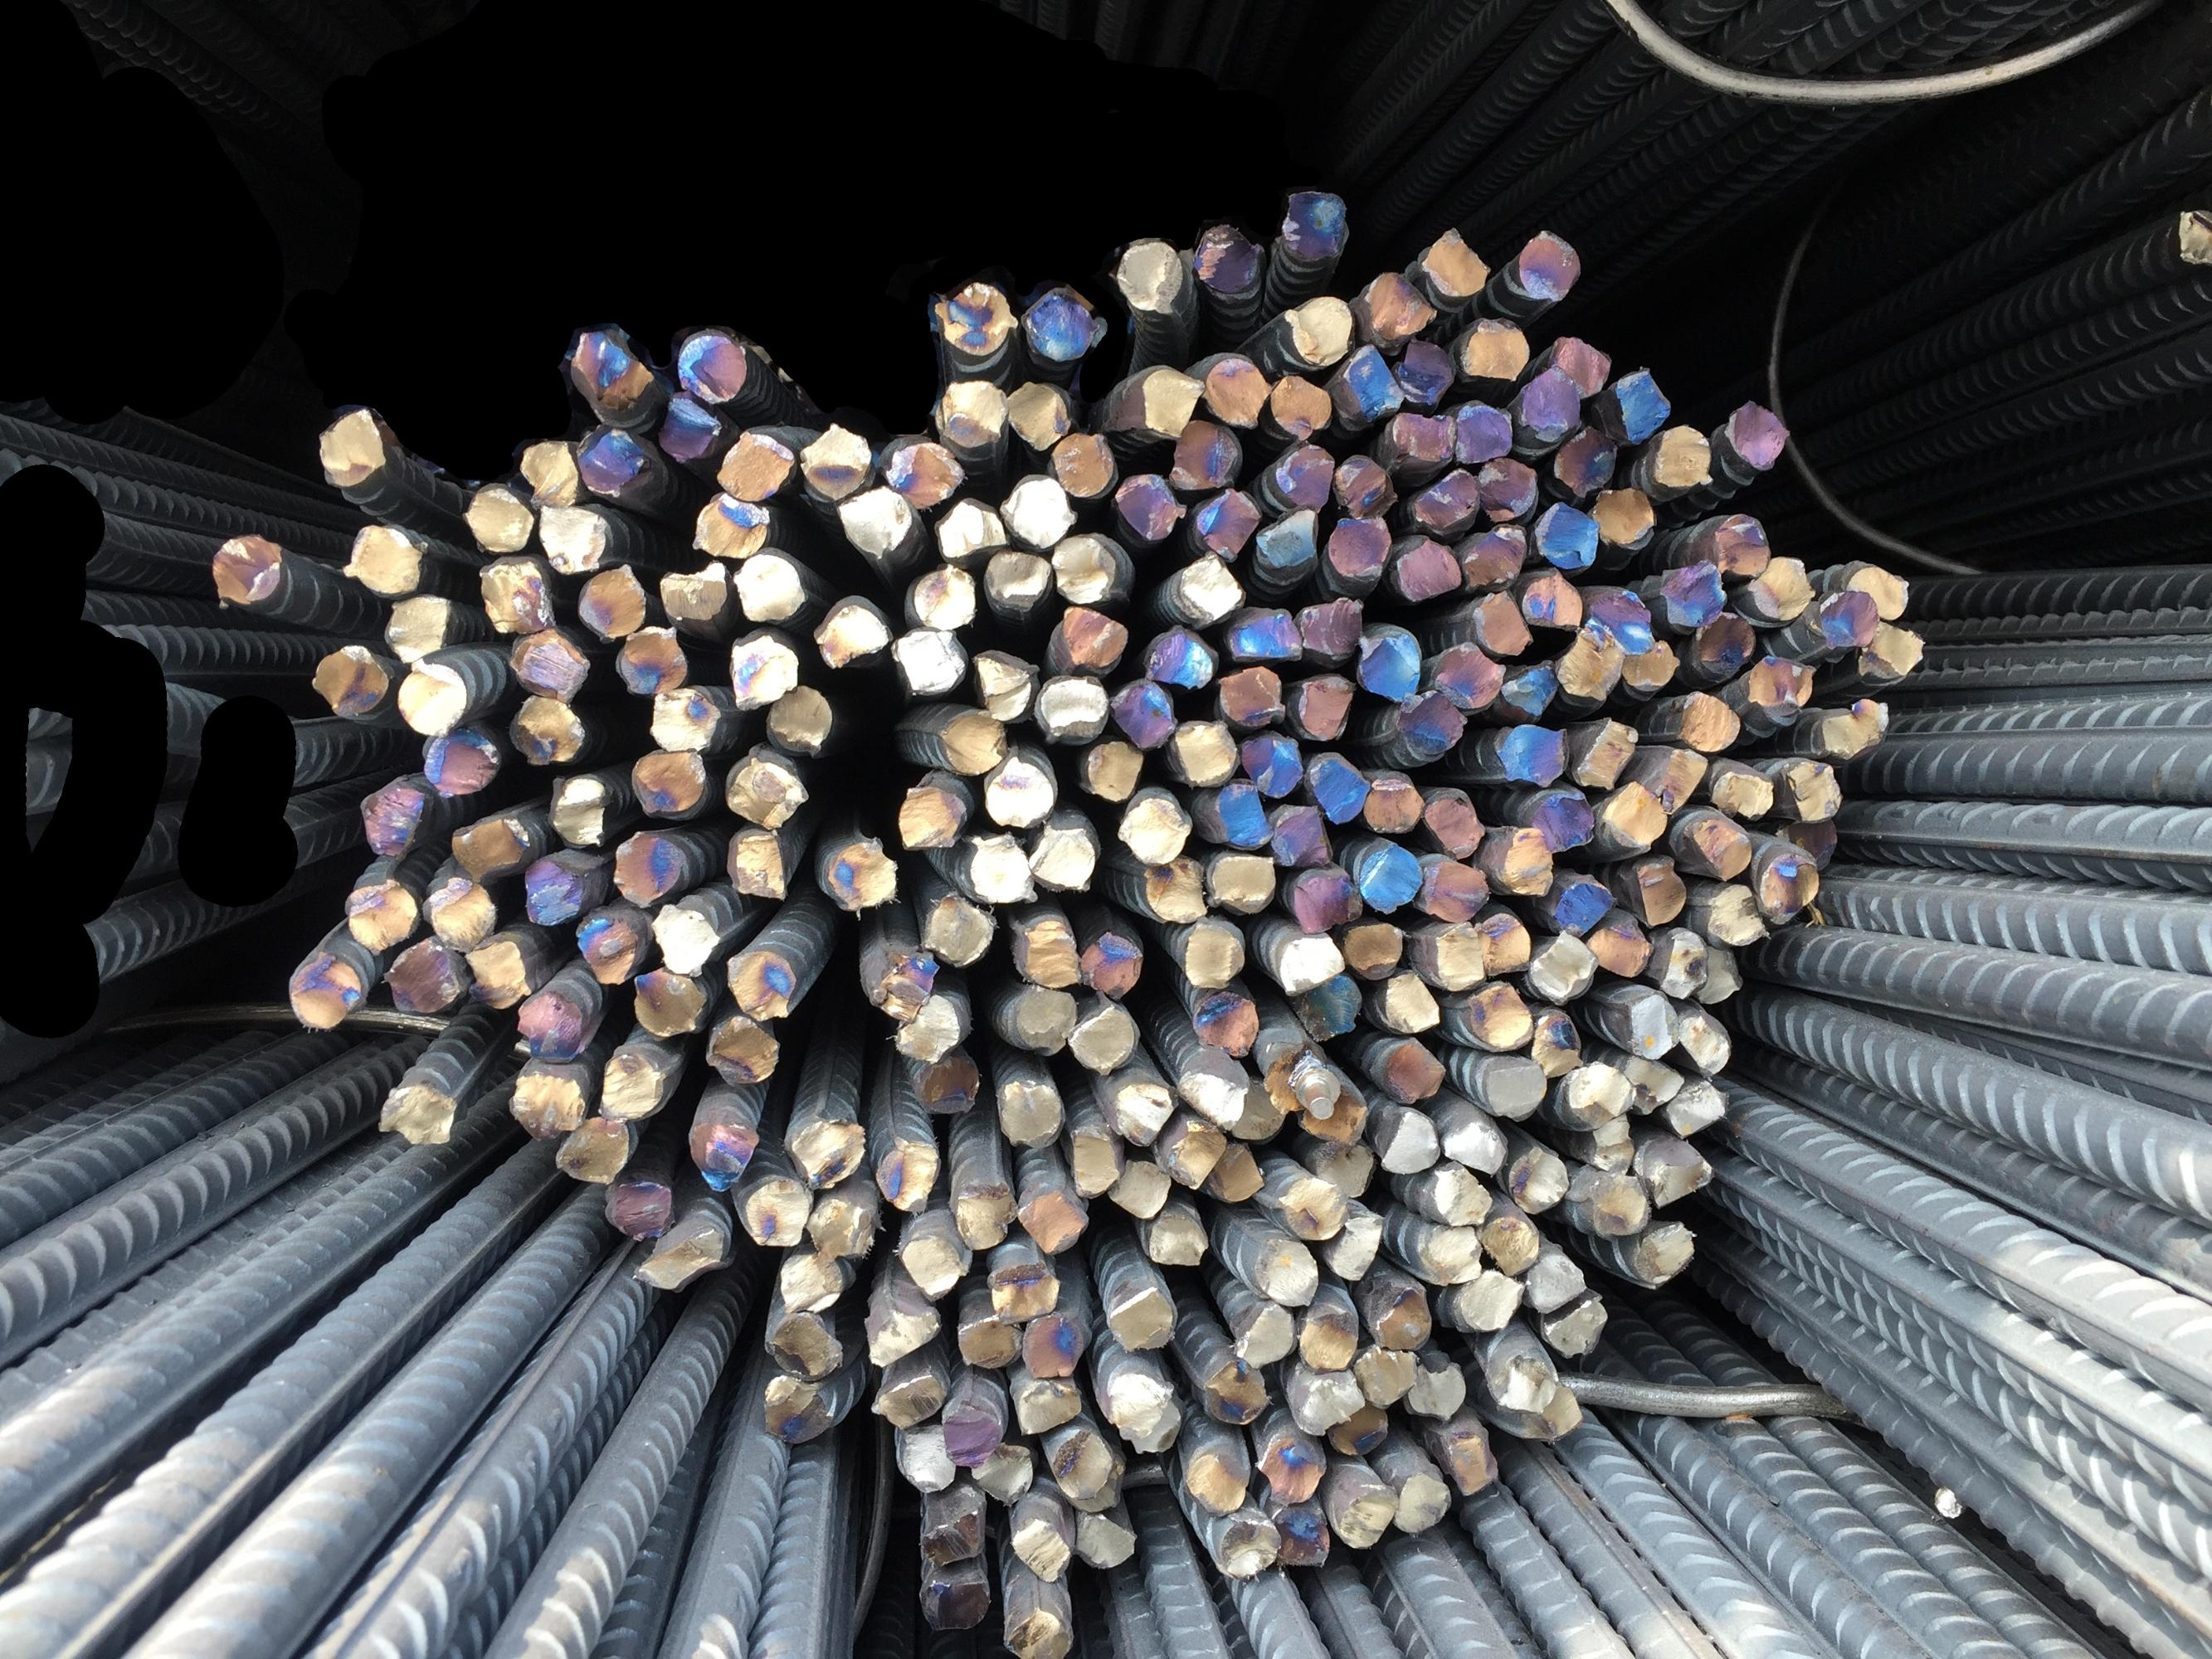bar: (567, 324, 657, 422), (723, 746, 811, 829), (933, 279, 1020, 359), (673, 324, 758, 404), (636, 1220, 727, 1295), (1018, 284, 1100, 364), (284, 946, 363, 1030), (760, 1305, 847, 1380), (1715, 396, 1790, 483), (383, 936, 464, 1016), (476, 554, 556, 634), (880, 429, 962, 507), (504, 1061, 587, 1138), (314, 404, 387, 491), (572, 422, 650, 502), (340, 519, 422, 596), (783, 1115, 865, 1192), (1001, 469, 1077, 551), (727, 627, 802, 711), (377, 1075, 462, 1148), (506, 627, 591, 701), (1116, 364, 1203, 436), (723, 943, 802, 1021), (981, 749, 1060, 828), (207, 532, 284, 612), (715, 422, 795, 498), (889, 626, 969, 702), (610, 826, 685, 908), (1175, 1046, 1250, 1127), (1382, 692, 1466, 765), (1510, 364, 1581, 450), (392, 657, 469, 735), (647, 901, 725, 978), (730, 547, 809, 624), (458, 477, 537, 554), (1194, 350, 1271, 429), (1675, 805, 1752, 884), (553, 1110, 633, 1185), (811, 592, 891, 667), (861, 941, 936, 1021), (575, 561, 648, 643), (798, 416, 872, 498), (1555, 622, 1626, 706), (1508, 227, 1584, 303), (704, 1014, 783, 1089), (838, 486, 917, 561), (824, 835, 899, 913), (1166, 552, 1245, 627), (655, 556, 729, 636), (359, 779, 431, 861), (418, 728, 504, 796), (1260, 1032, 1328, 1117), (310, 643, 387, 718), (420, 873, 495, 950), (594, 1044, 669, 1121), (807, 1185, 882, 1262), (1006, 910, 1081, 986), (1639, 1134, 1715, 1209), (340, 877, 418, 950), (685, 1114, 758, 1192), (959, 833, 1037, 906), (1116, 789, 1194, 863), (1414, 225, 1492, 298), (506, 694, 586, 765), (934, 376, 1009, 451), (917, 892, 992, 967), (1279, 291, 1354, 366), (1741, 653, 1816, 728), (758, 1373, 835, 1446), (631, 749, 709, 821), (537, 502, 615, 573), (1356, 270, 1435, 342), (1283, 864, 1363, 934), (1421, 775, 1487, 859), (1754, 843, 1820, 927), (612, 622, 687, 695), (865, 1293, 940, 1366), (631, 967, 708, 1039), (1069, 999, 1140, 1075), (1051, 532, 1128, 603), (1255, 1427, 1327, 1504), (689, 488, 767, 558), (573, 904, 641, 985), (1647, 561, 1727, 629), (1278, 188, 1351, 261), (896, 1227, 969, 1300), (1607, 357, 1670, 443), (891, 992, 966, 1063), (1429, 640, 1504, 711), (1595, 777, 1666, 852), (997, 985, 1074, 1054), (1184, 1438, 1253, 1514), (1621, 1222, 1698, 1291), (1455, 981, 1532, 1051), (969, 647, 1037, 725), (875, 1134, 943, 1213), (1490, 721, 1569, 789), (450, 812, 530, 878), (1799, 589, 1879, 655), (1255, 502, 1320, 584), (1513, 788, 1595, 852), (1687, 512, 1769, 577), (1114, 240, 1185, 314), (1103, 1277, 1175, 1351), (1027, 819, 1098, 892), (1198, 777, 1271, 849), (1604, 985, 1677, 1056), (1684, 610, 1755, 683), (518, 988, 587, 1063), (723, 824, 793, 899), (931, 704, 1006, 774), (1321, 516, 1391, 591), (743, 1173, 811, 1249), (1354, 626, 1421, 704), (1811, 695, 1891, 760), (1112, 471, 1184, 542), (1189, 486, 1260, 558), (1391, 532, 1462, 603), (1527, 931, 1598, 1002), (1008, 376, 1077, 450), (1187, 986, 1260, 1056), (1170, 420, 1243, 490), (1560, 1061, 1633, 1131), (1658, 690, 1741, 751), (655, 387, 723, 462), (1034, 673, 1109, 741), (1328, 1474, 1396, 1549), (1295, 592, 1361, 669), (546, 770, 610, 849), (1192, 221, 1262, 293), (1353, 838, 1422, 910), (1639, 742, 1708, 814), (896, 781, 969, 849), (919, 1490, 987, 1563), (1856, 619, 1924, 692), (933, 495, 1008, 561), (1110, 1073, 1177, 1148), (1131, 854, 1206, 920), (1272, 1175, 1347, 1241), (1471, 1054, 1546, 1121), (1572, 714, 1639, 789), (648, 687, 725, 751), (516, 434, 580, 511), (901, 563, 978, 627), (1306, 746, 1368, 824), (380, 592, 450, 662), (1018, 1183, 1088, 1253), (1171, 718, 1241, 788), (1422, 1159, 1492, 1229), (920, 1567, 992, 1635), (1004, 1509, 1072, 1581), (995, 1077, 1063, 1148), (1156, 1121, 1227, 1188), (1177, 917, 1245, 988), (1236, 728, 1304, 800), (1410, 467, 1478, 538), (1485, 824, 1553, 896), (1053, 605, 1126, 671), (1203, 849, 1276, 915), (1372, 1037, 1445, 1103), (1206, 1514, 1279, 1581), (1452, 1269, 1525, 1335), (1459, 591, 1532, 657), (1269, 929, 1344, 993), (1623, 854, 1687, 929), (1225, 603, 1302, 666), (981, 549, 1051, 617), (1265, 375, 1335, 443), (1292, 972, 1361, 1040), (1248, 1239, 1318, 1307), (1696, 882, 1766, 950), (1776, 753, 1844, 823), (603, 1176, 675, 1243), (769, 683, 835, 755), (1098, 1364, 1170, 1431), (1459, 315, 1530, 382), (1335, 345, 1401, 416), (1440, 1105, 1506, 1176), (1365, 1281, 1431, 1352), (1537, 1291, 1609, 1358), (1583, 586, 1654, 652), (777, 1249, 851, 1314), (1555, 425, 1619, 498), (872, 1364, 947, 1427), (1081, 924, 1143, 999), (1832, 556, 1909, 617), (1325, 1204, 1384, 1283), (1644, 425, 1712, 493), (1288, 673, 1358, 739), (1504, 1143, 1571, 1213), (1419, 920, 1485, 990), (1459, 521, 1529, 587), (1590, 484, 1659, 551), (1269, 1502, 1333, 1574), (1048, 1425, 1110, 1499), (1297, 1298, 1360, 1371), (1142, 624, 1217, 685), (1110, 678, 1177, 746), (1201, 1358, 1269, 1424), (1292, 1368, 1360, 1434), (1581, 1171, 1649, 1237), (1747, 554, 1813, 622), (1049, 432, 1119, 497), (940, 1396, 1004, 1466), (521, 856, 584, 927), (1543, 871, 1614, 934), (1213, 667, 1286, 728), (987, 1262, 1062, 1321), (967, 1439, 1034, 1506), (1267, 443, 1333, 509), (1332, 451, 1398, 518), (1532, 502, 1598, 568), (1710, 755, 1776, 821), (913, 1053, 981, 1117), (1227, 1300, 1295, 1364), (1377, 967, 1442, 1035), (1581, 913, 1649, 978), (465, 939, 528, 1009), (1675, 1000, 1731, 1079), (1299, 1084, 1370, 1145), (1438, 1427, 1499, 1499), (1510, 1382, 1581, 1443), (1529, 1004, 1590, 1075), (1537, 336, 1609, 397), (1382, 410, 1455, 469), (891, 1427, 957, 1492), (955, 1182, 1020, 1248), (1421, 856, 1487, 920), (1475, 457, 1539, 523), (1072, 1509, 1140, 1572), (1377, 1105, 1440, 1173), (952, 1312, 1021, 1373), (1105, 1157, 1175, 1218), (999, 1603, 1077, 1657), (1391, 1464, 1450, 1535), (1522, 1249, 1586, 1314), (1618, 1053, 1682, 1117), (1021, 1312, 1084, 1378), (1520, 565, 1583, 631), (1394, 336, 1455, 404), (1067, 1121, 1121, 1197), (1013, 1378, 1084, 1436), (1142, 1213, 1213, 1270), (1476, 903, 1532, 976), (1269, 803, 1332, 868), (1311, 1140, 1377, 1201), (1356, 1342, 1417, 1408), (1487, 1352, 1555, 1412), (1414, 1225, 1482, 1284), (1652, 925, 1706, 999), (1079, 739, 1143, 800), (1203, 1140, 1264, 1204), (1405, 1356, 1466, 1420), (1452, 397, 1513, 462), (1339, 918, 1405, 978), (1363, 767, 1422, 833), (1773, 810, 1839, 870), (1478, 1211, 1539, 1274), (1121, 1396, 1185, 1455), (1231, 1073, 1285, 1143), (1499, 657, 1558, 720), (1663, 1080, 1727, 1138), (1619, 640, 1682, 695), (1325, 1401, 1388, 1453), (1583, 1114, 1633, 1176), (1696, 939, 1743, 1006), (1063, 1460, 1123, 1513)
